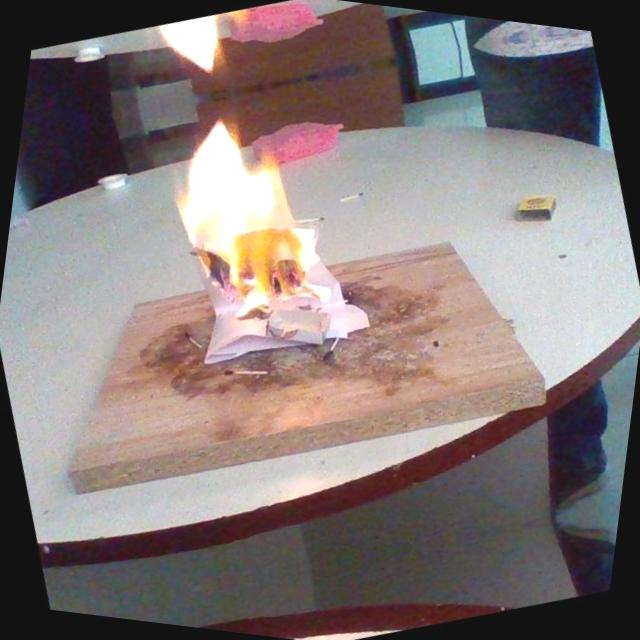fire: (105, 54, 416, 396)
